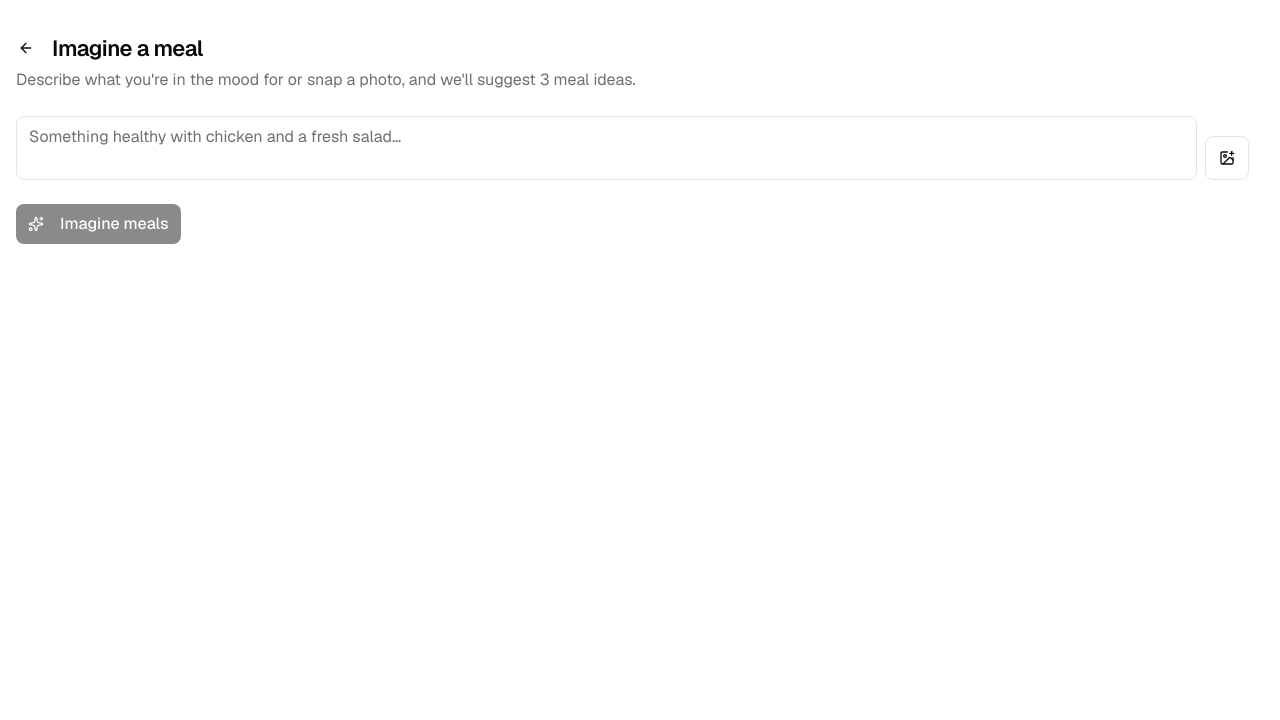
Test: ImagineClient prep time (HON-891) › shows each card with the prep time that will be saved, not the raw AI value
In the text box: (606, 148) [16,116,1197,180], type "something with lentils"
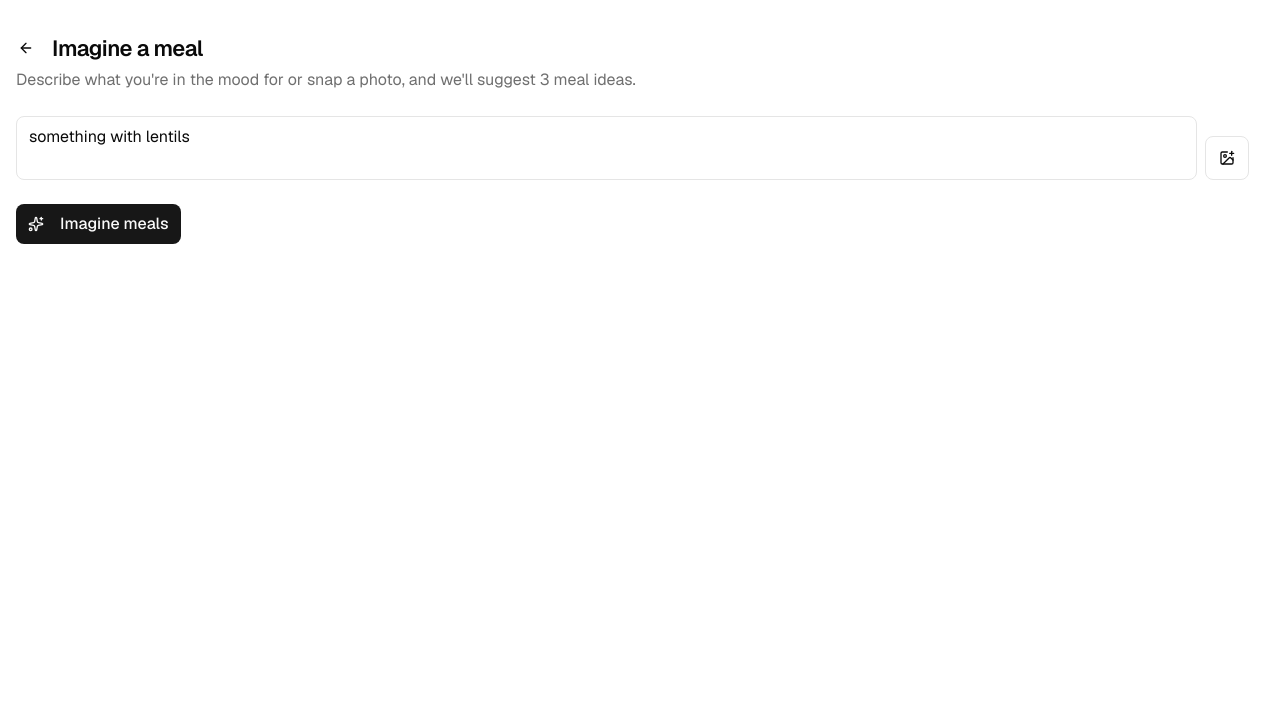
Click the button "Imagine meals": (98, 224) [16,204,181,244]
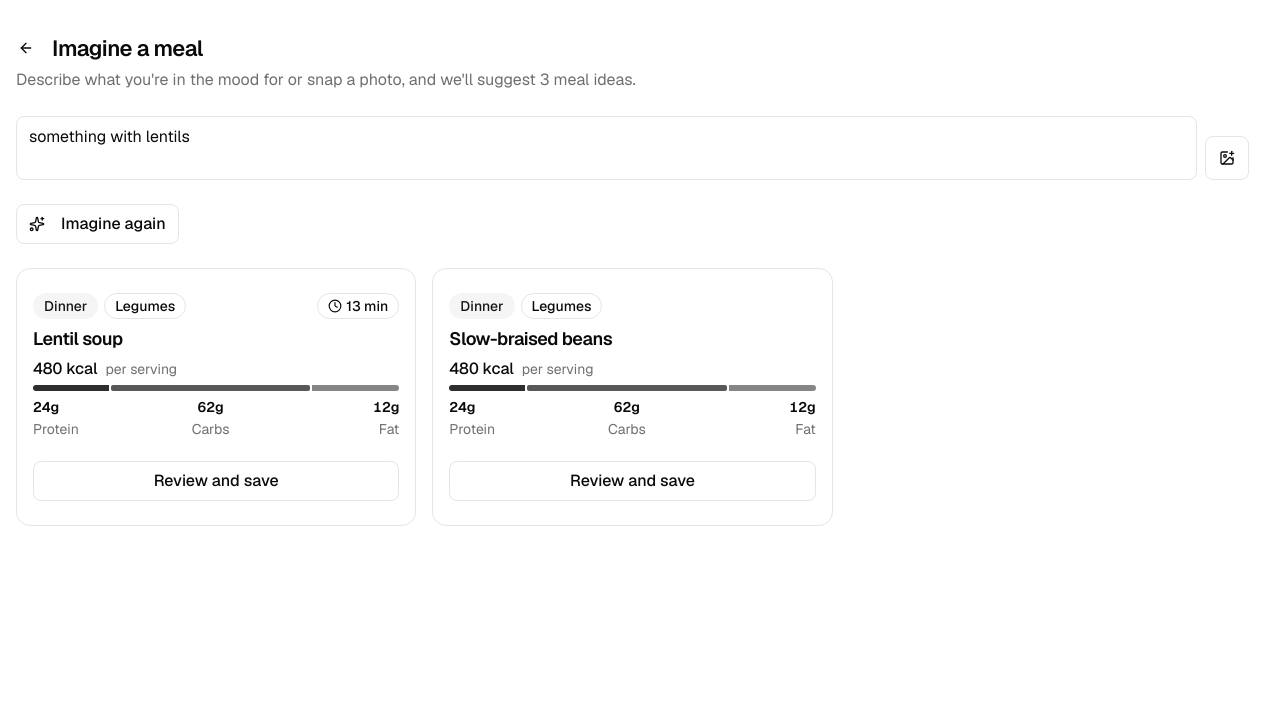
Result: the heading "Lentil soup" is shown at [33,325,123,353]
Result: the button "13 min" is shown at [317,293,399,319]
